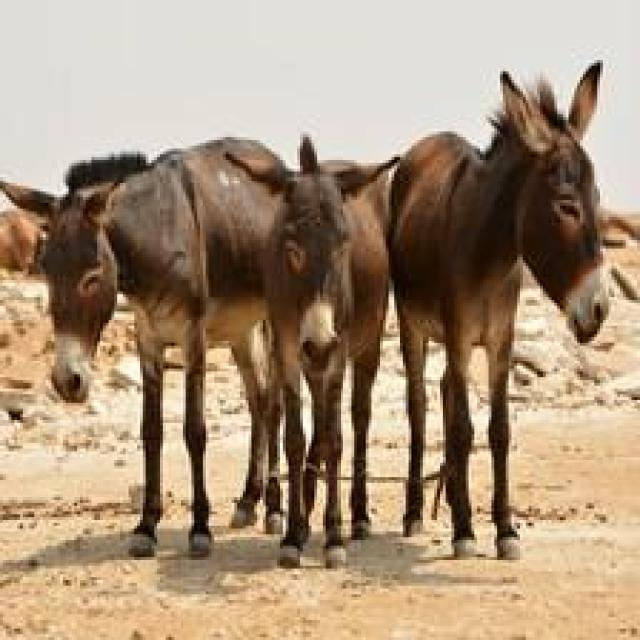Donkey: (0, 131, 400, 563), (383, 57, 608, 560), (220, 132, 400, 568), (0, 209, 46, 274)
